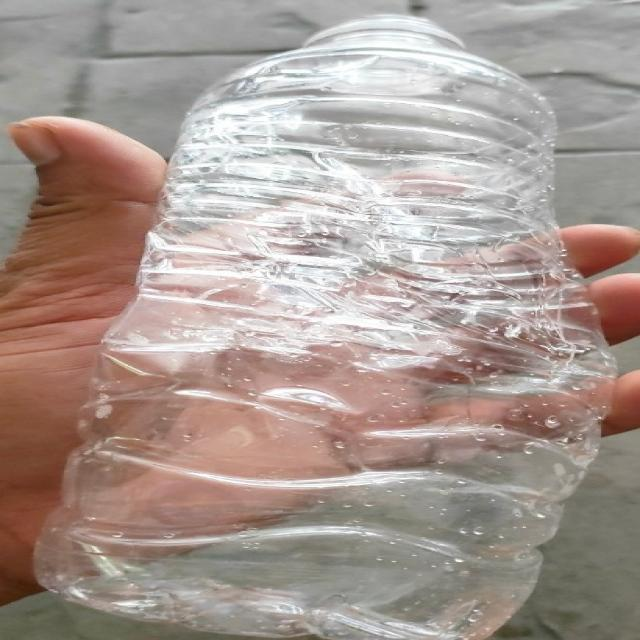bottle: (31, 15, 620, 640)
